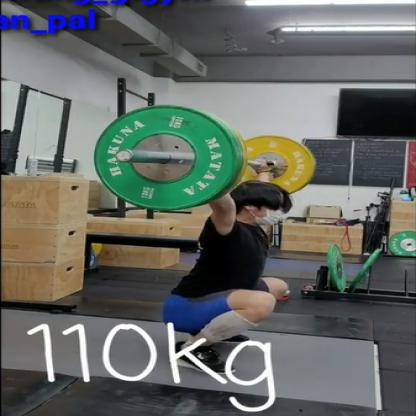Barbell: (87, 102, 254, 222)
